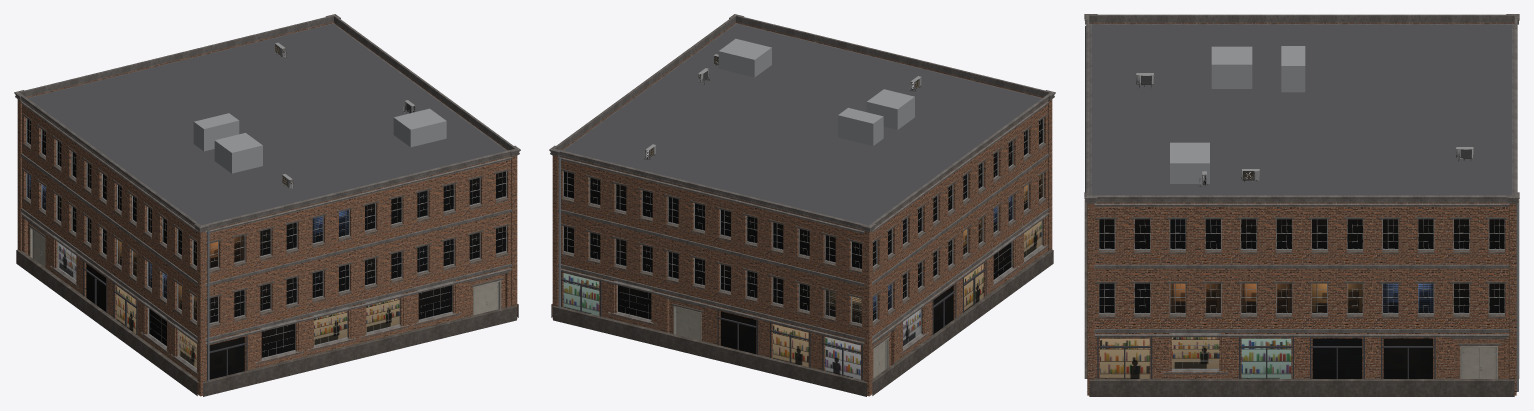
File: warehouse.gltf
3 views of the same model, side by side, from view 1: azimuth 30°, elevation 25°; view 2: azimuth 150°, elevation 25°; view 3: azimuth 270°, elevation 25° (orthographic). The views are drawn at different scales.
Parts seen in each view (by area): view 1: warehouse; view 2: warehouse; view 3: warehouse.
Part boxes in pixels (x1,y1,x2,y2): warehouse: [14, 14, 520, 396]; warehouse: [549, 14, 1055, 396]; warehouse: [1084, 14, 1519, 396].
Bounding box in the file's own units: 18.42 × 10.17 × 18.42.
Materials: 14 (9 with a texture image).
